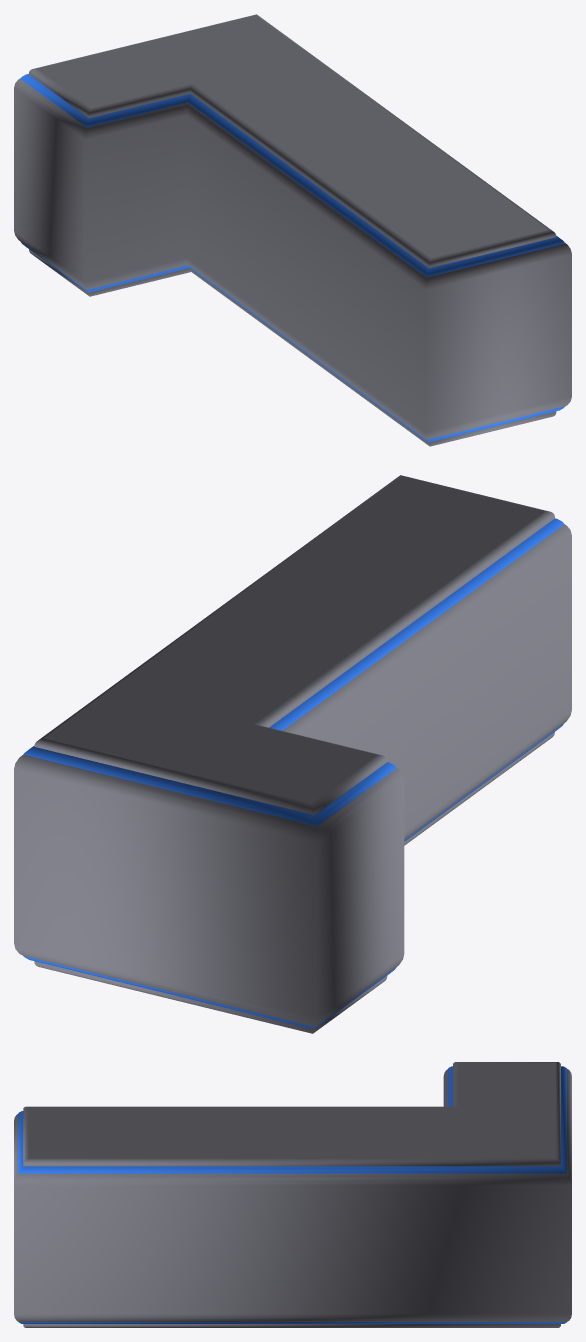
Rendered from 3d_number_-_1_one.fbx.
3 views of the same model, one above another, from view 1: azimuth 30°, elevation 25°; view 2: azimuth 150°, elevation 25°; view 3: azimuth 270°, elevation 25° (orthographic). The views are drawn at different scales.
Parts seen in each view (by area): view 1: imagetostl_mesh1, imagetostl_mesh2, imagetostl_mesh0; view 2: imagetostl_mesh1, imagetostl_mesh2, imagetostl_mesh0; view 3: imagetostl_mesh1, imagetostl_mesh2, imagetostl_mesh0.
Boxes of the visible parts, x1,y1,x2,y2 form: imagetostl_mesh1: [14, 78, 571, 439]; imagetostl_mesh2: [29, 14, 556, 446]; imagetostl_mesh0: [20, 74, 565, 442]; imagetostl_mesh1: [14, 524, 571, 1026]; imagetostl_mesh2: [34, 475, 554, 1033]; imagetostl_mesh0: [23, 518, 564, 1029]; imagetostl_mesh1: [14, 1069, 571, 1321]; imagetostl_mesh2: [23, 1062, 560, 1327]; imagetostl_mesh0: [18, 1066, 566, 1323].
Bounding box in the file's own units: 25.5 × 18.4 × 55.16.
